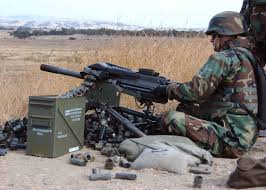gun: (39, 61, 169, 144)
